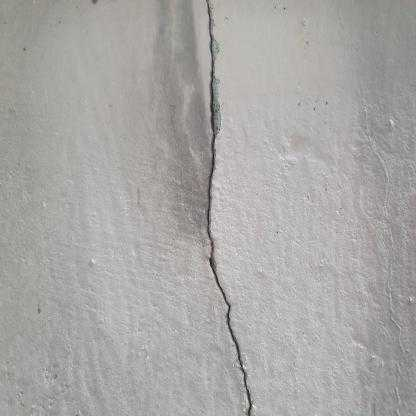crack: (207, 3, 252, 416)
